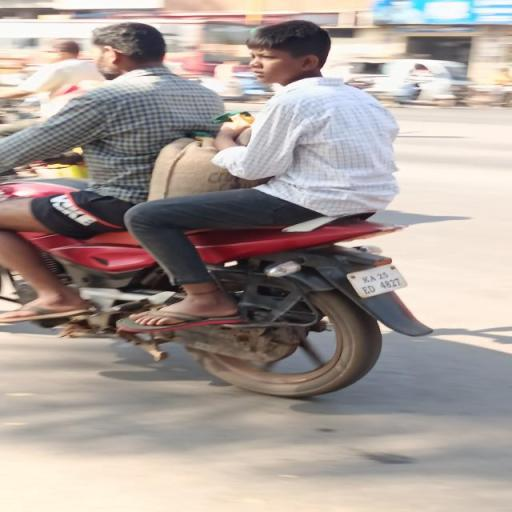bike: (2, 18, 439, 407)
numberplate: (340, 253, 410, 305)
withouthelmet: (250, 23, 324, 82), (92, 24, 161, 75)
